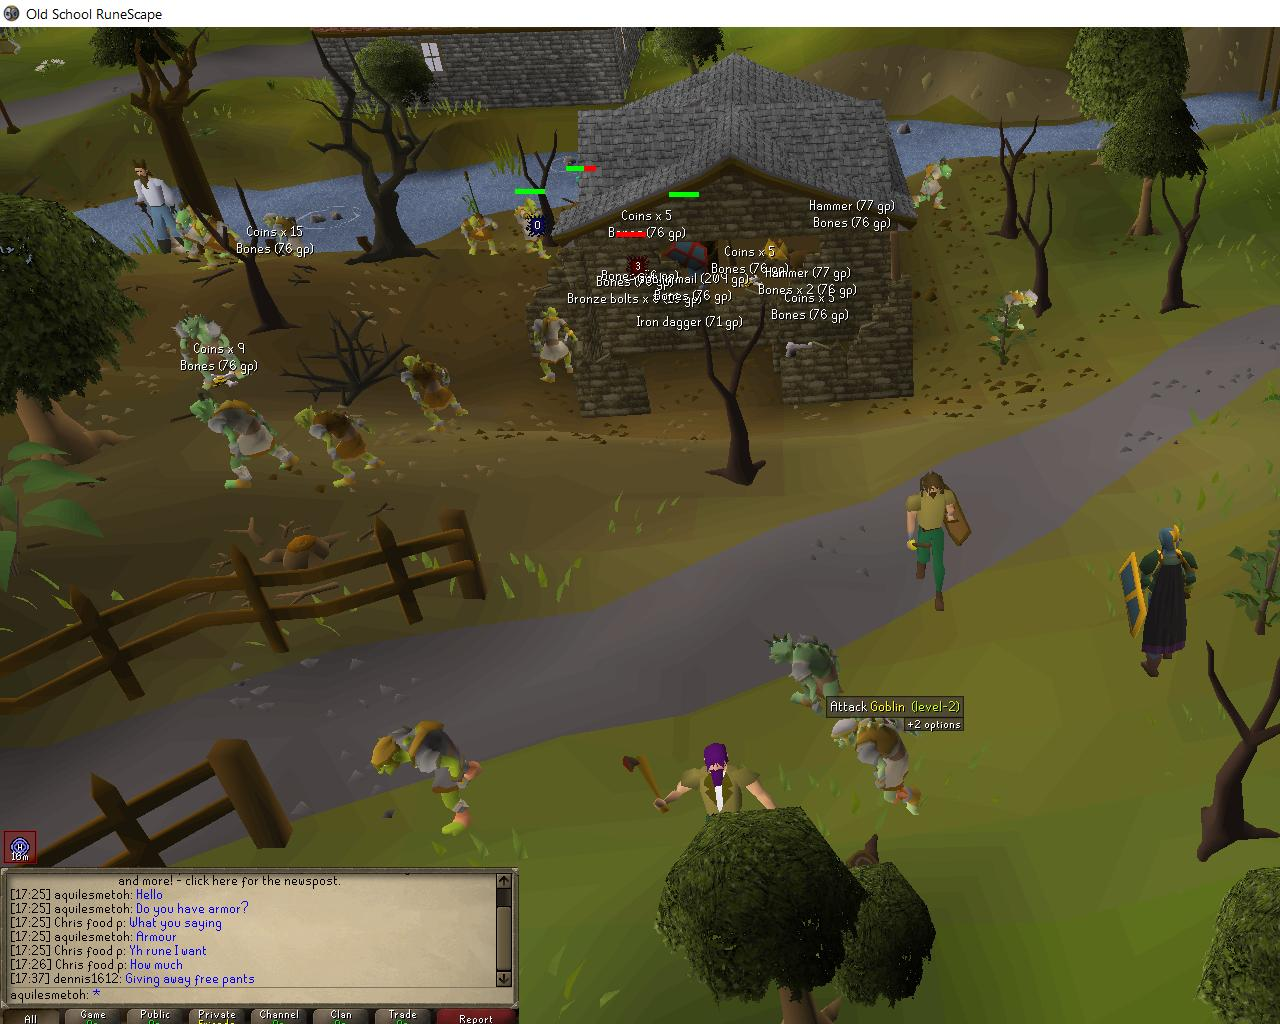Goblin: (366, 716, 485, 839), (827, 711, 936, 818), (185, 395, 302, 491), (292, 404, 385, 489), (762, 630, 854, 713), (168, 315, 261, 390), (400, 353, 471, 432), (526, 304, 579, 385), (172, 210, 236, 270), (259, 212, 318, 261), (511, 195, 553, 261), (991, 287, 1039, 340), (913, 156, 954, 212), (456, 213, 504, 258)
